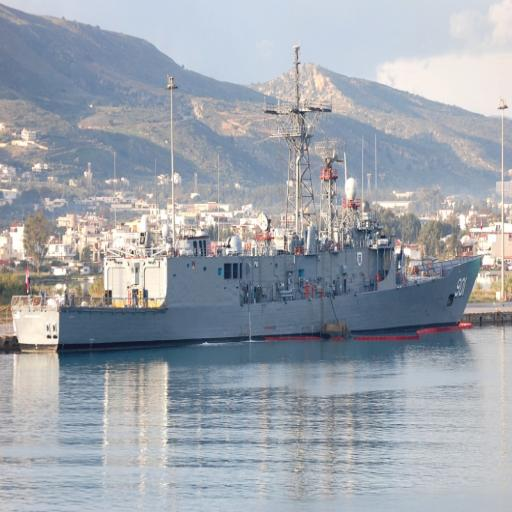Fragata: (7, 36, 489, 359)
